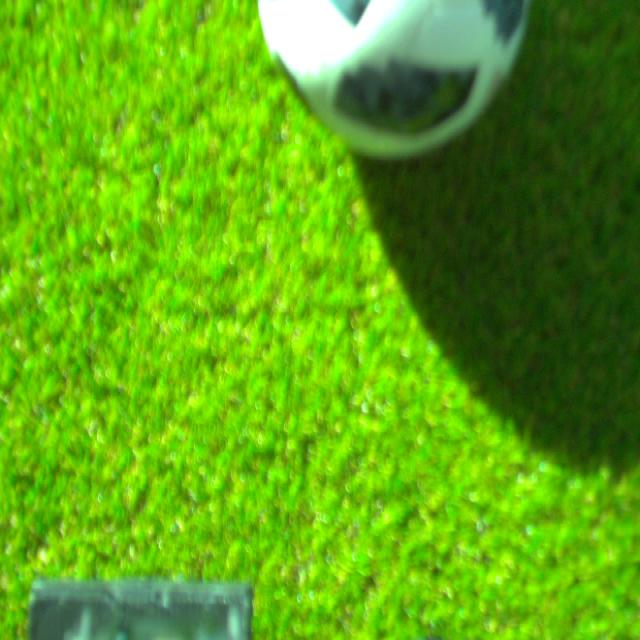ball: (255, 0, 532, 161)
